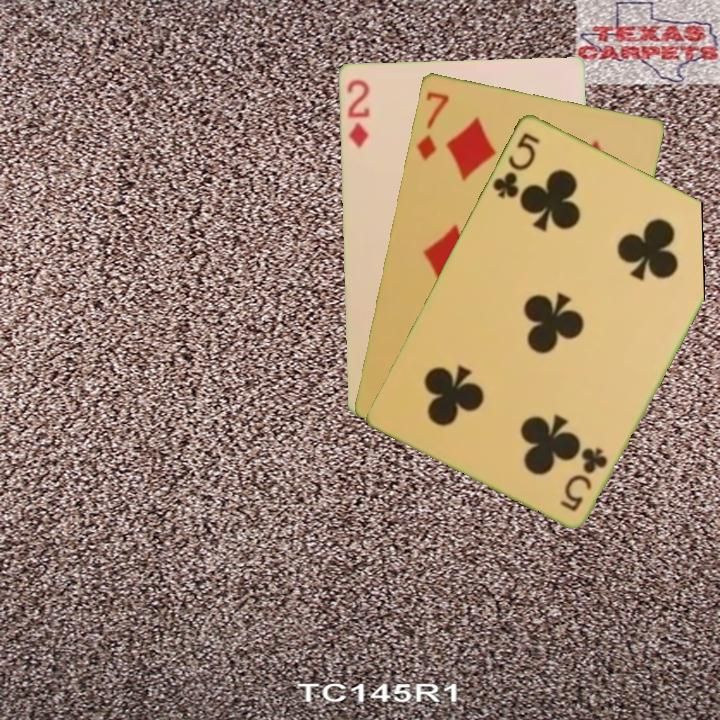2d: (343, 75, 372, 150)
5c: (489, 128, 543, 201), (556, 443, 610, 514)
7d: (412, 87, 451, 163)
